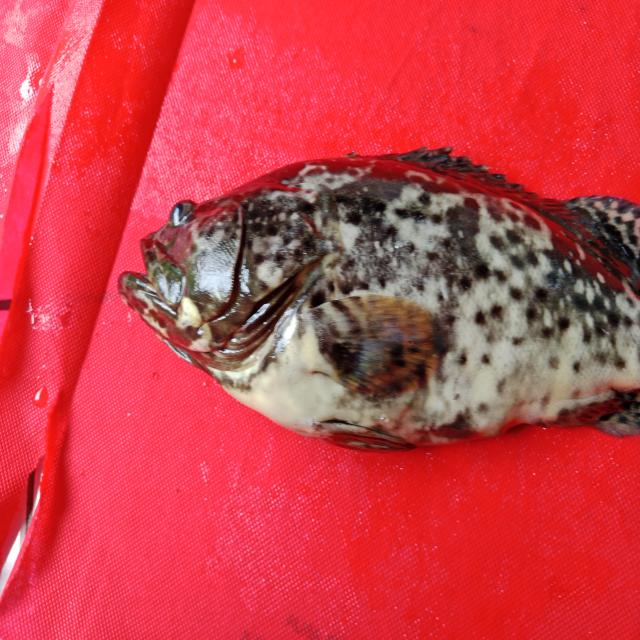ikan: (100, 106, 636, 467)
